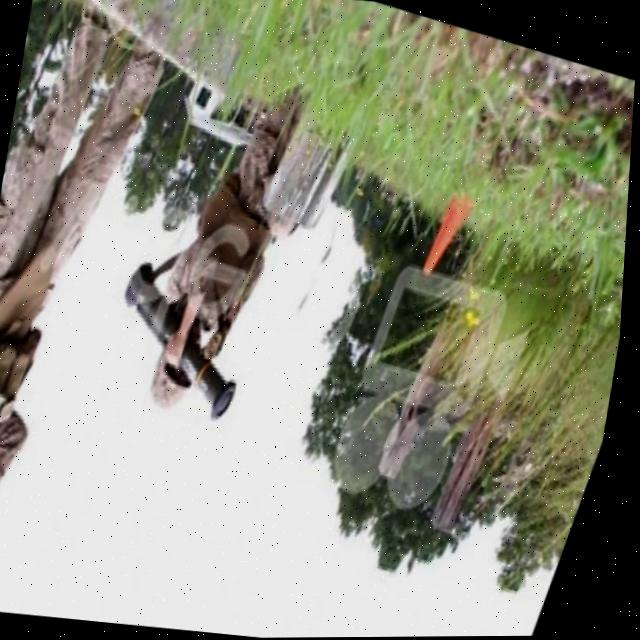rocket: (83, 250, 279, 428)
